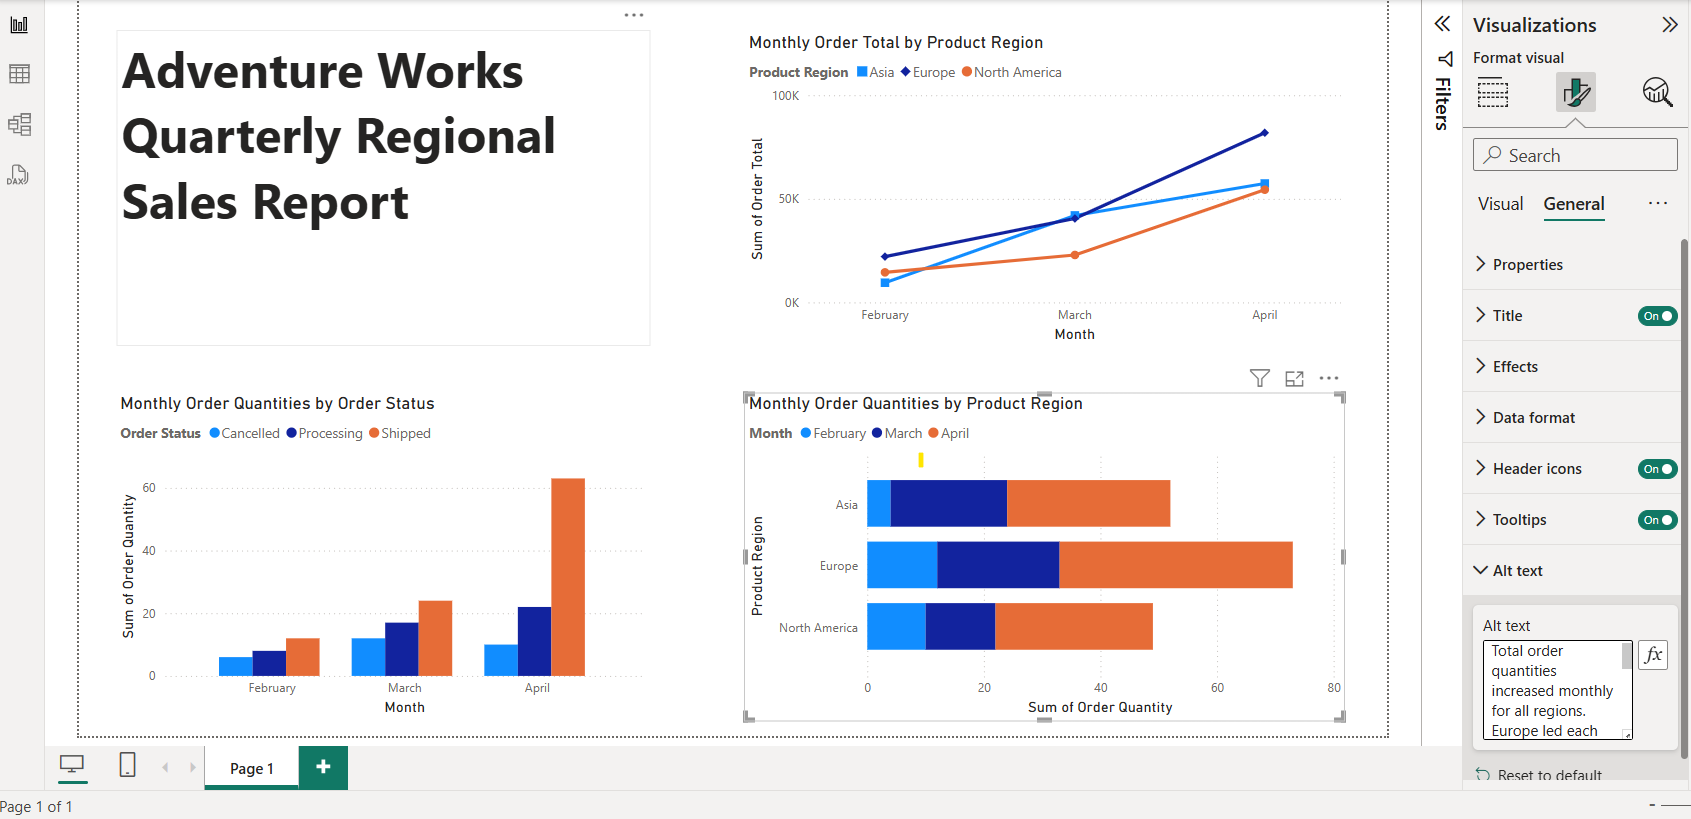

What the dashboard file says about the page in this screenshot:
{"tool":"powerbi","page":{"name":"Page 1","canvas":[1280,720],"ordinal":0},"visuals":[{"type":"barChart","title":"Monthly Order Quantities by Product Region","fields":{"Category":["Sales.Product Region"],"Y":["Sum(Sales.Order Quantity)"],"Series":["Sales.Order Date.Variation.Date Hierarchy.Month"]},"box":[650,384,589,321],"z":3000},{"type":"clusteredColumnChart","title":"Monthly Order Quantities by Order Status","fields":{"Category":["Sales.Month"],"Y":["Sum(Sales.Order Quantity)"],"Series":["Sales.Order Status"]},"box":[36,384,522,321],"z":3125},{"type":"lineChart","title":"Monthly Order Total by Product Region","fields":{"Category":["Sales.Month"],"Y":["Sum(Sales.Order Total)"],"Series":["Sales.Product Region"]},"box":[650,30,589,309],"z":3250},{"type":"textbox","box":[36.2,29.8,522.2,309.5],"z":3500}]}

Visuals, with their boxes on the page's 1280x720 design canvas (x1, y1, x2, y2). These are canvas units, not pixel positions in the 1691x819 screenshot, which may show the page scaled, cropped or inside an application window:
"Monthly Order Quantities by Product Region" barChart: x1=650, y1=384, x2=1239, y2=705
"Monthly Order Quantities by Order Status" clusteredColumnChart: x1=36, y1=384, x2=558, y2=705
"Monthly Order Total by Product Region" lineChart: x1=650, y1=30, x2=1239, y2=339
textbox: x1=36, y1=30, x2=558, y2=339
